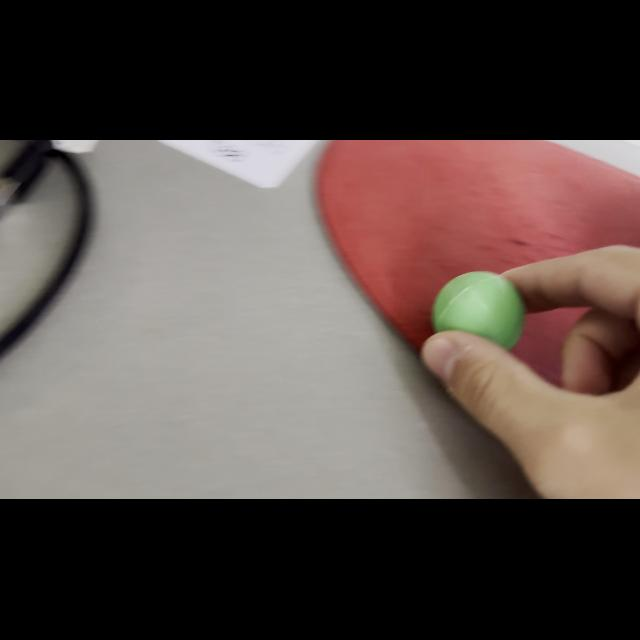objects: (432, 265, 532, 347)
